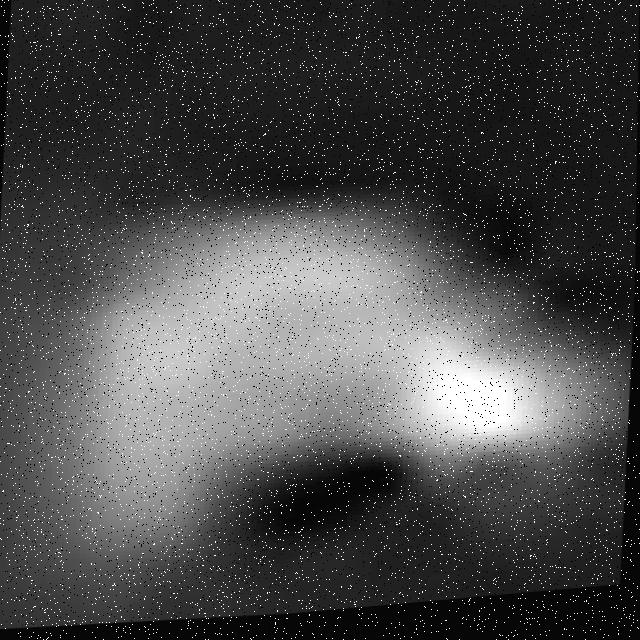person: (13, 166, 639, 567)
